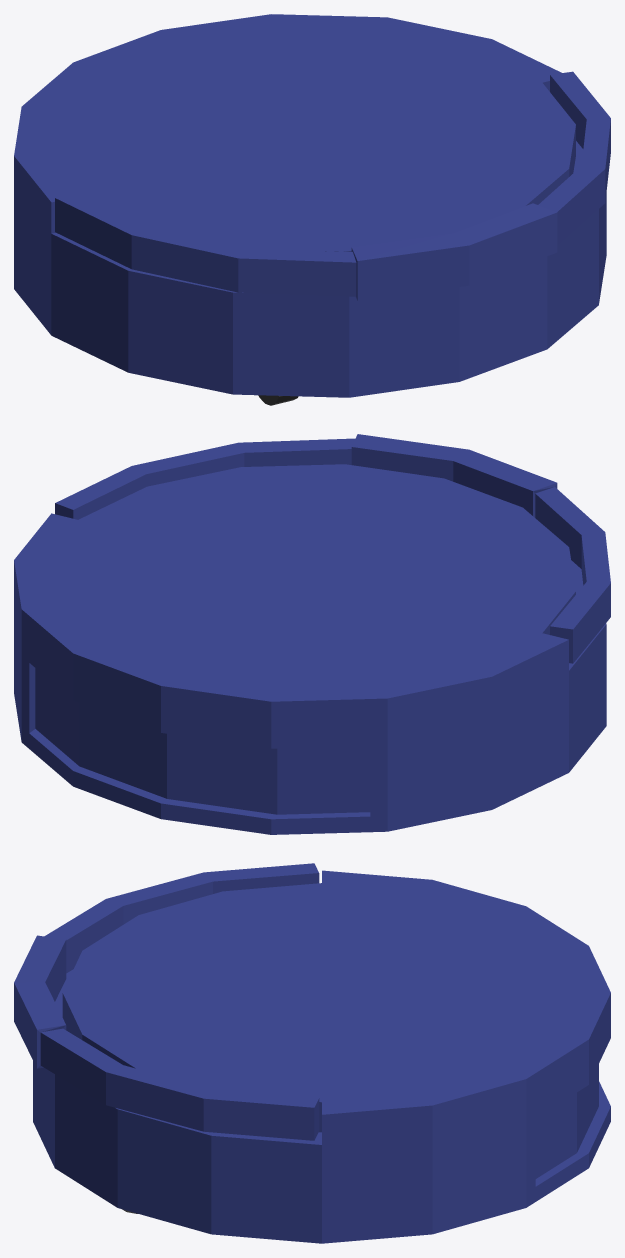
The model's file is roomba (1).fbx.
3 views of the same model, one above another, from view 1: azimuth 30°, elevation 25°; view 2: azimuth 150°, elevation 25°; view 3: azimuth 270°, elevation 25° (orthographic). The views are drawn at different scales.
Visible parts, largest first — view 1: Circle.002; view 2: Circle.002; view 3: Circle.002.
Part boxes in pixels (x1,y1,x2,y2): Circle.002: (14, 14, 610, 405); Circle.002: (14, 434, 610, 834); Circle.002: (14, 863, 610, 1243).
Size of the model in its own units: 200 by 207 by 63.18.
